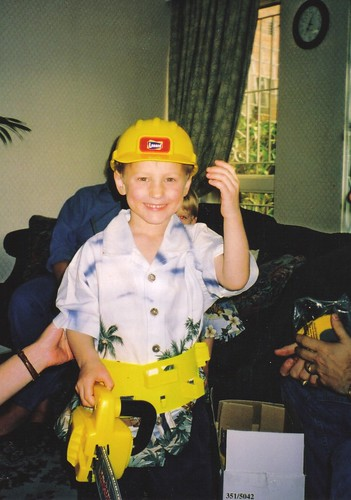person hardhat: (55, 112, 240, 500)
